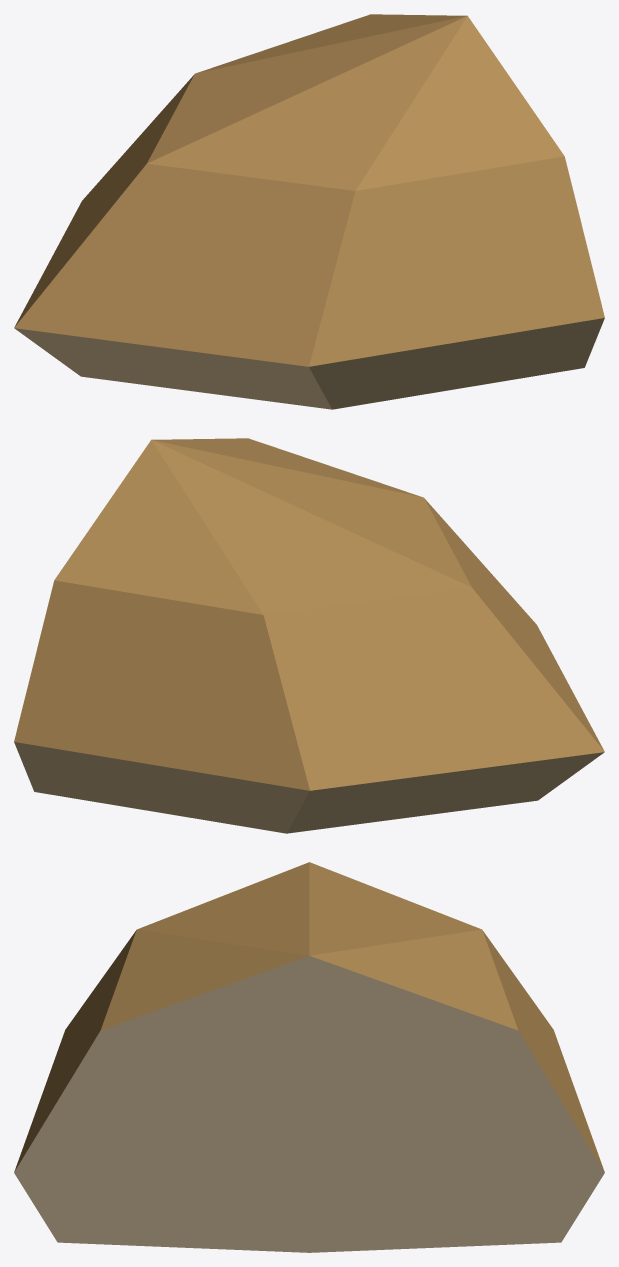
Rendered from Bread3.fbx.
3 renders of one model, top to bottom at view 1: azimuth 30°, elevation 25°; view 2: azimuth 150°, elevation 25°; view 3: azimuth 270°, elevation 25°, orthographic. The views are drawn at different scales.
Parts seen in each view (by area): view 1: Cube; view 2: Cube; view 3: Cube.
Part boxes in pixels (x1,y1,x2,y2): Cube: (14, 14, 604, 409); Cube: (14, 438, 604, 833); Cube: (14, 862, 604, 1252).
Bounding box in the file's own units: 0.32 × 0.186 × 0.3353.
